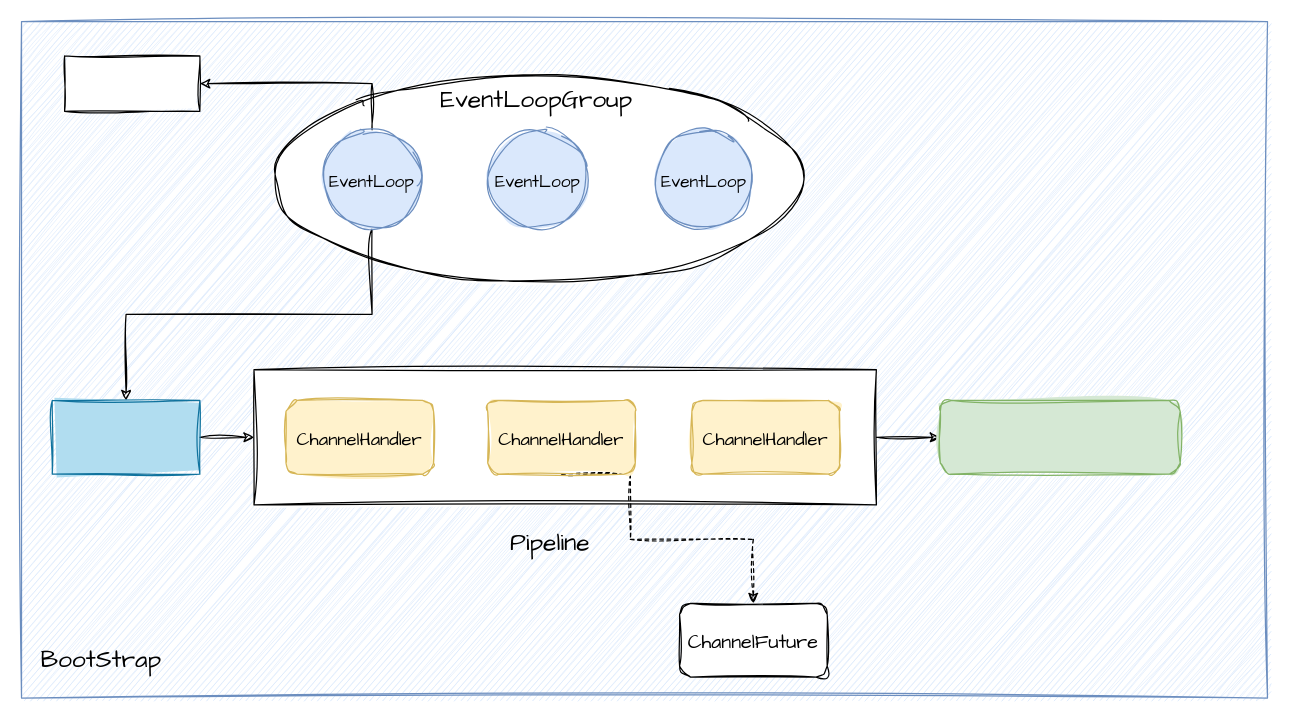
Image size: 1289x720. Some labels were removed from this diagram. Each missing label, with the centre of its shape:
ByteBuf: point 1059,436
Channel: point 125,436
Thread: point 131,83
